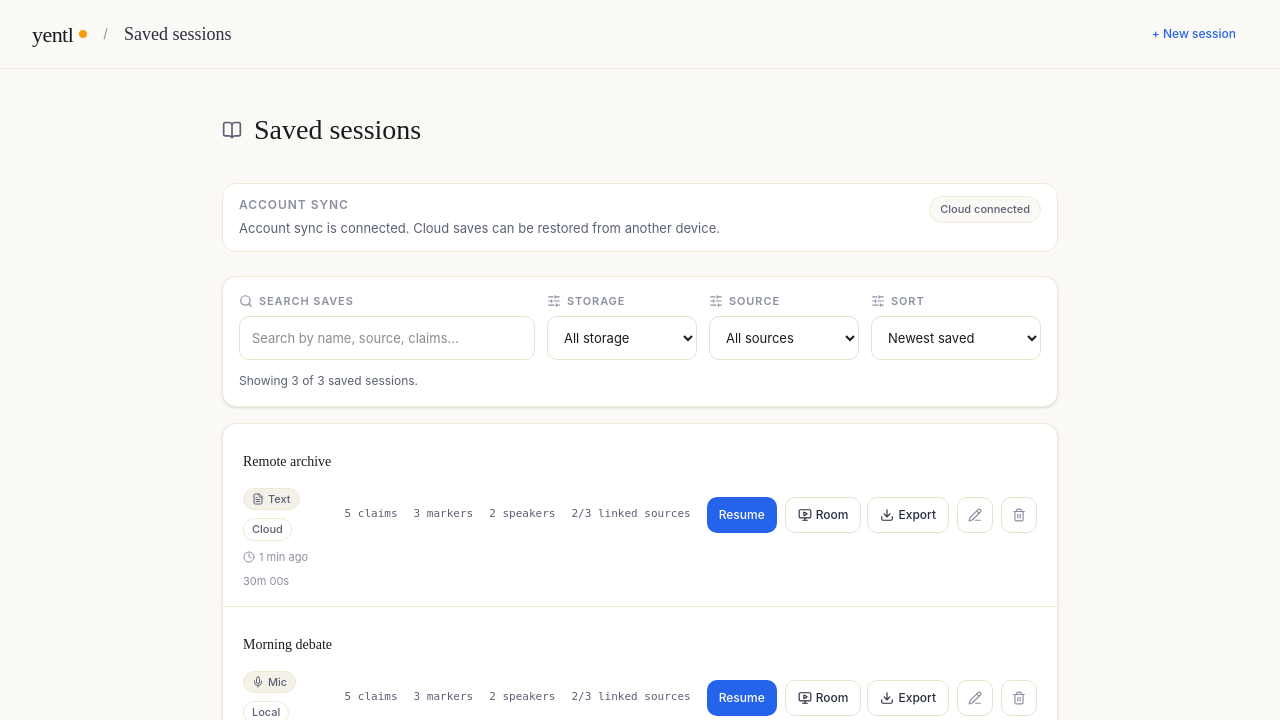
Test: SessionsLibraryPage — with sessions › searches saved sessions by storage scope
Expected: the text "Remote archive" is shown, x1=243 y1=451 x2=331 y2=472
Type "cloud" into the field labelled "Search saves" at [387, 338], box x1=239 y1=316 x2=535 y2=360
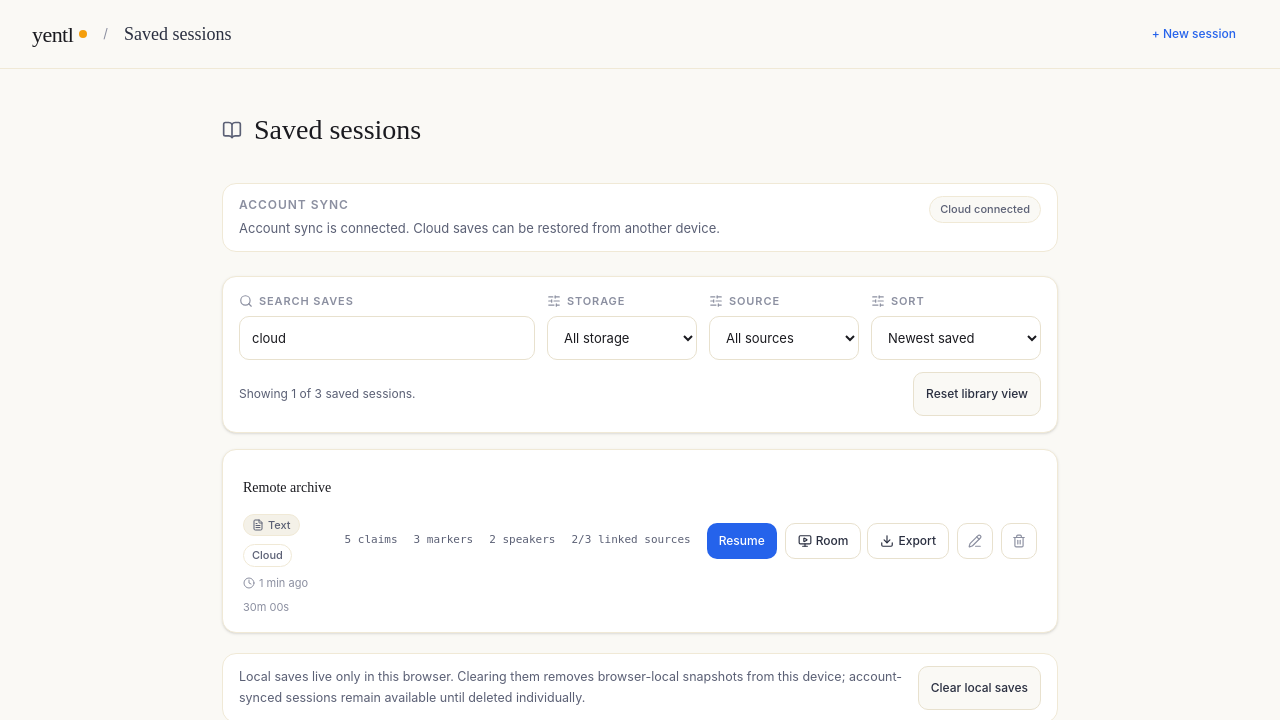
Expected: the text "Remote archive" is shown, x1=243 y1=477 x2=331 y2=498
Now the button "Morning debate" is gone
Now the text "Showing 1 of 3 saved sessions." is shown, box x1=239 y1=385 x2=416 y2=403
